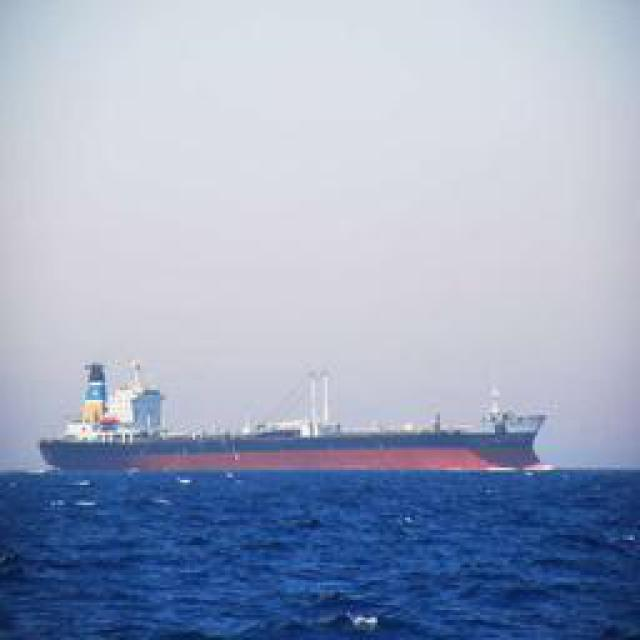Ship: (45, 361, 550, 479)
